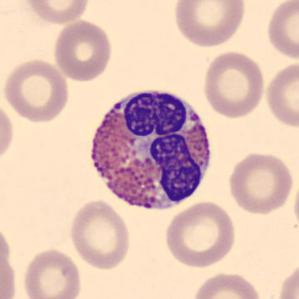Eosinophil: (80, 79, 220, 218)
RBC: (162, 198, 238, 268), (66, 198, 133, 271), (1, 56, 71, 124), (200, 48, 267, 119), (225, 150, 295, 216), (52, 18, 114, 82), (171, 0, 249, 49), (20, 246, 84, 299), (262, 58, 298, 130), (190, 270, 264, 299), (264, 0, 298, 62), (21, 0, 92, 26), (0, 234, 19, 298), (0, 98, 16, 165), (275, 258, 298, 299), (291, 162, 299, 237)
